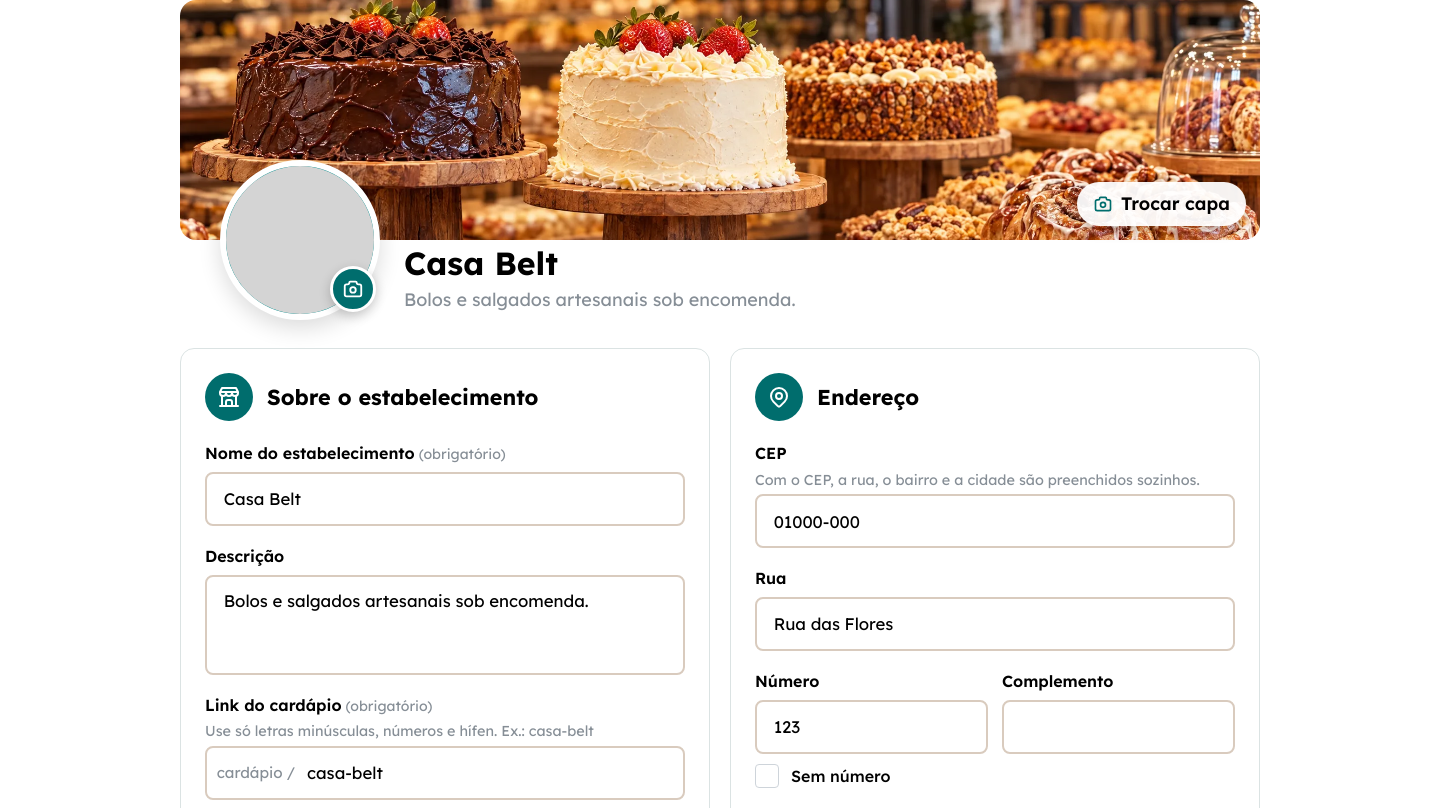
Test: PaginaEstabelecimento (US2, RF03, RF04) › endereço pelo CEP (ZAP-121) › CEP não encontrado: avisa e não apaga o que já estava digitado
Replace the text in the field labelled "CEP" with "99999999" at coordinates (995, 521), box 755,494 -> 1235,548
(page scrolled)
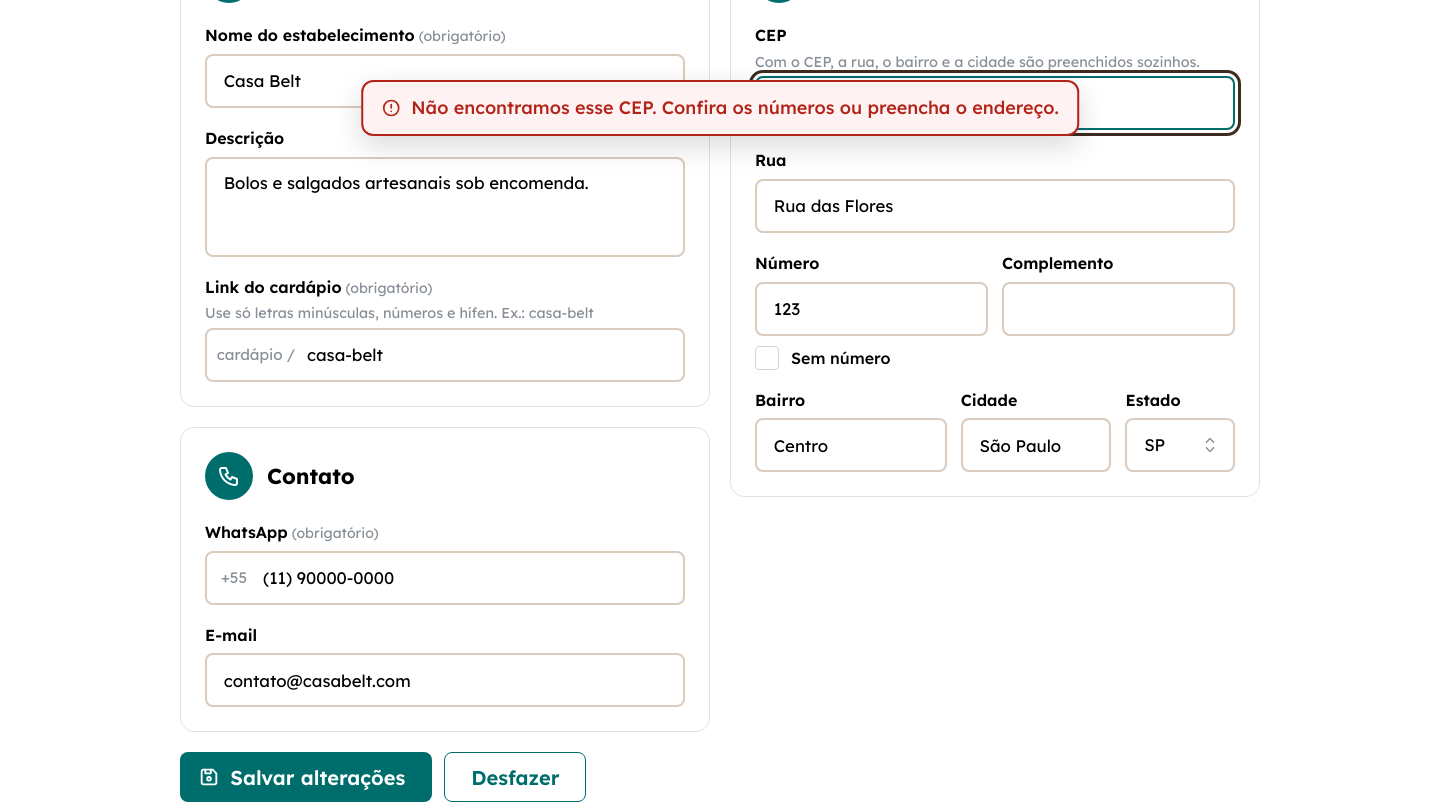
Expected: the field labelled "Rua" holds "Rua das Flores", 755,179 -> 1235,233
Expected: the text "Não encontramos esse CEP. Confira os números ou preencha o endereço." is shown, 361,80 -> 1079,136
